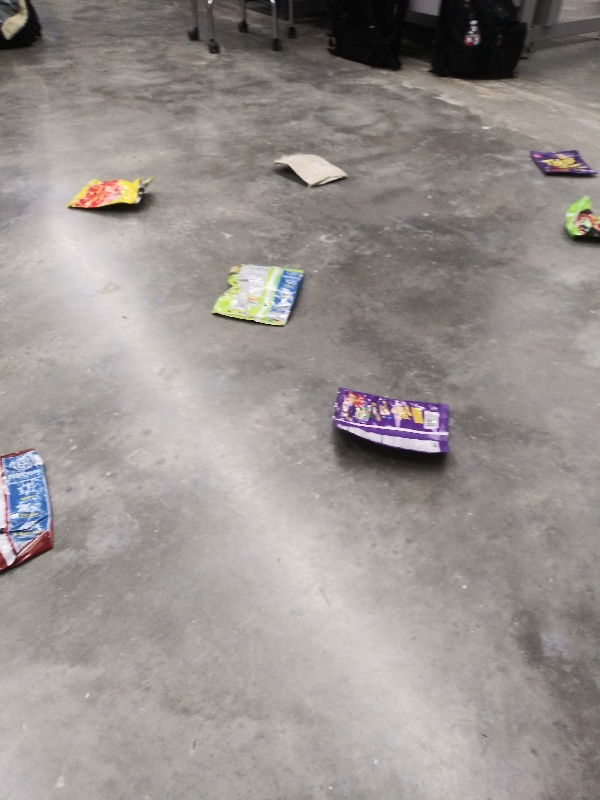bag: (328, 382, 457, 464), (1, 446, 61, 586), (209, 259, 312, 330), (63, 168, 158, 216), (267, 149, 359, 188), (524, 147, 600, 180), (560, 193, 600, 249)
bottle: (460, 16, 484, 49)
